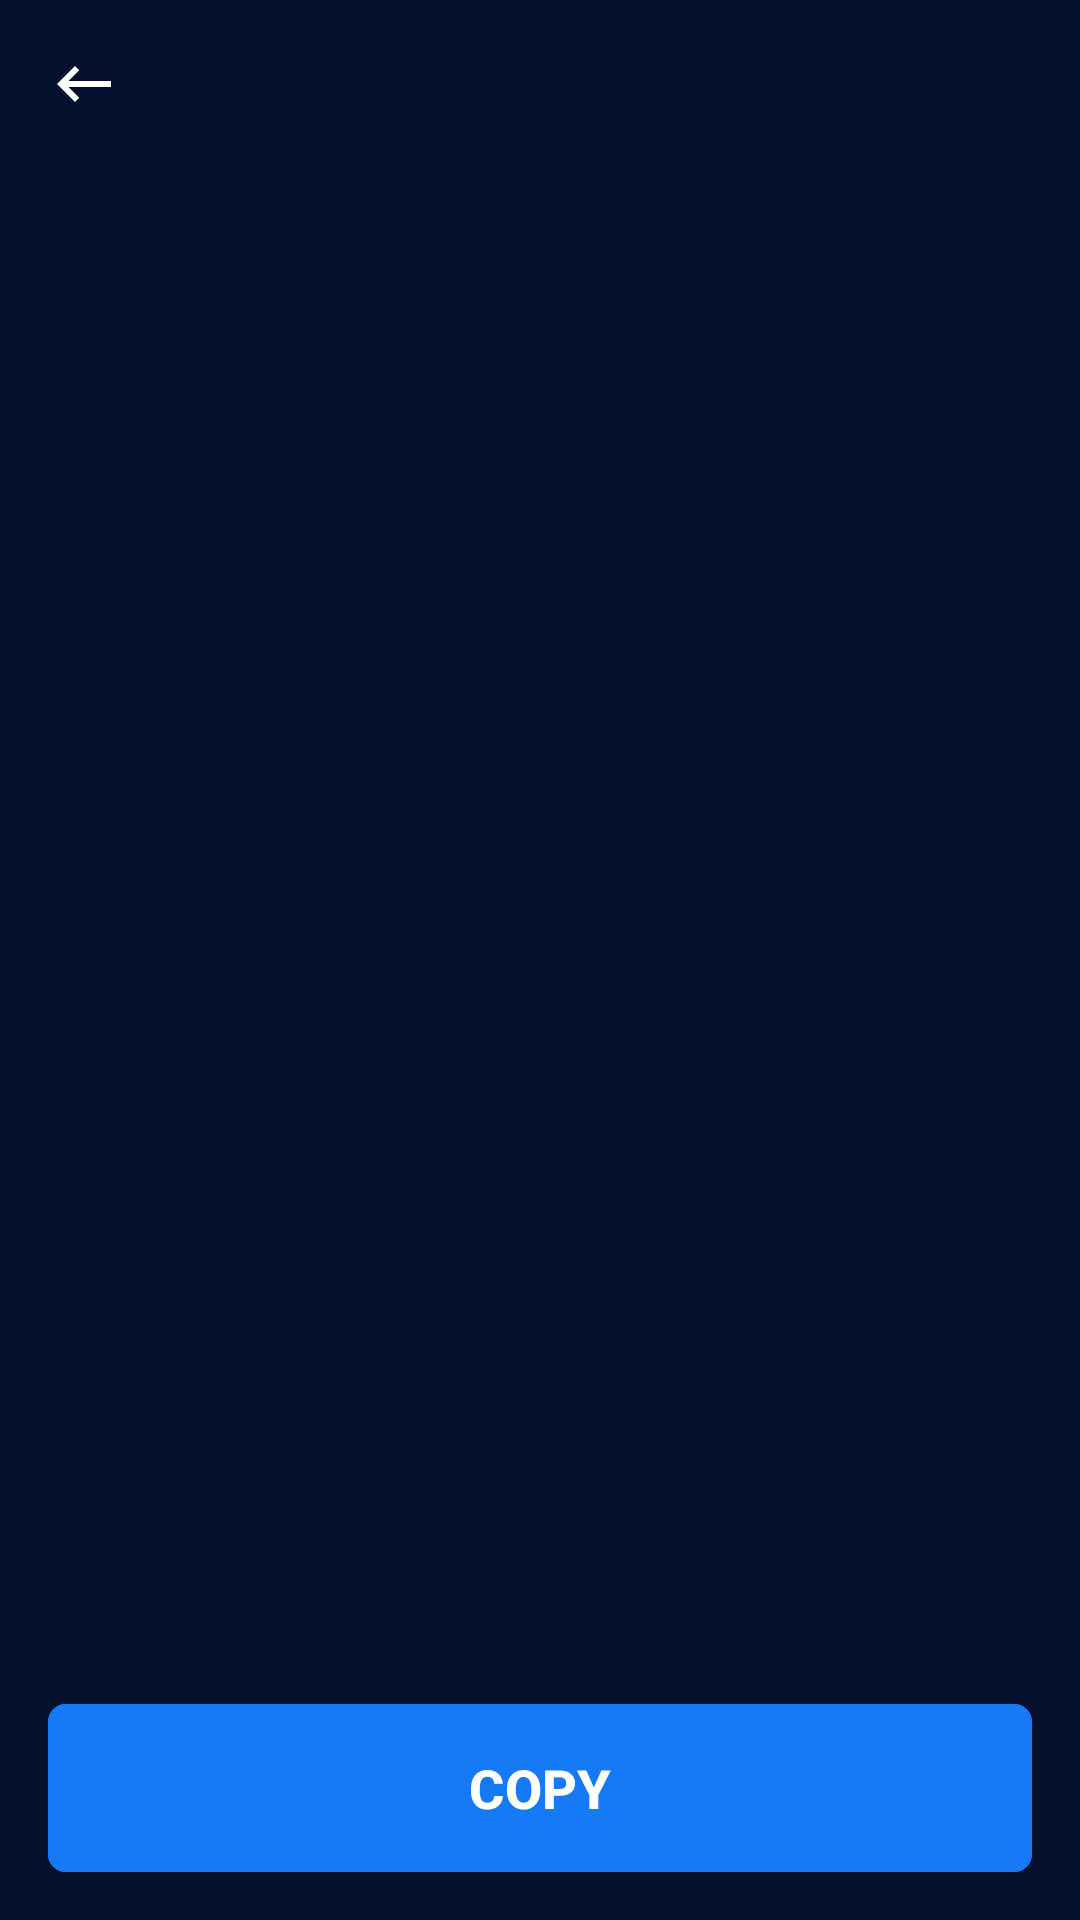

Point at icon controls on the screen. Image size 1080×1920, points as (x,y).
back arrow: (84,84)
